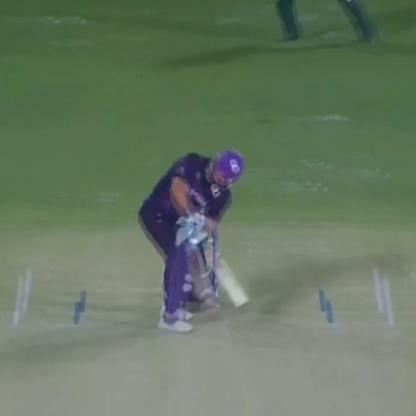ball: (178, 282, 198, 300)
bat: (1, 252, 416, 416), (185, 220, 251, 305)
pitch: (178, 274, 196, 287)
